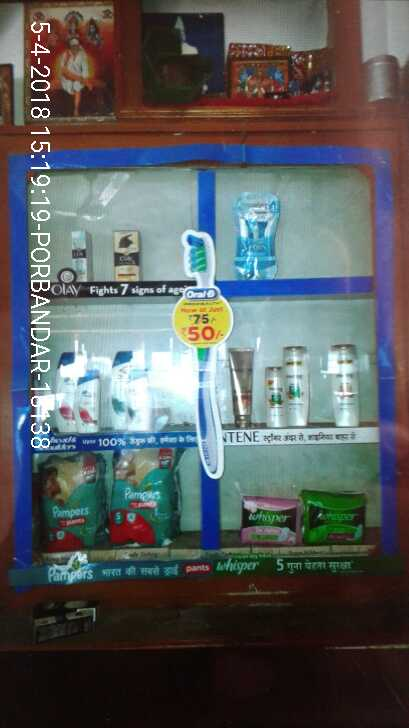venus: (236, 191, 280, 281)
